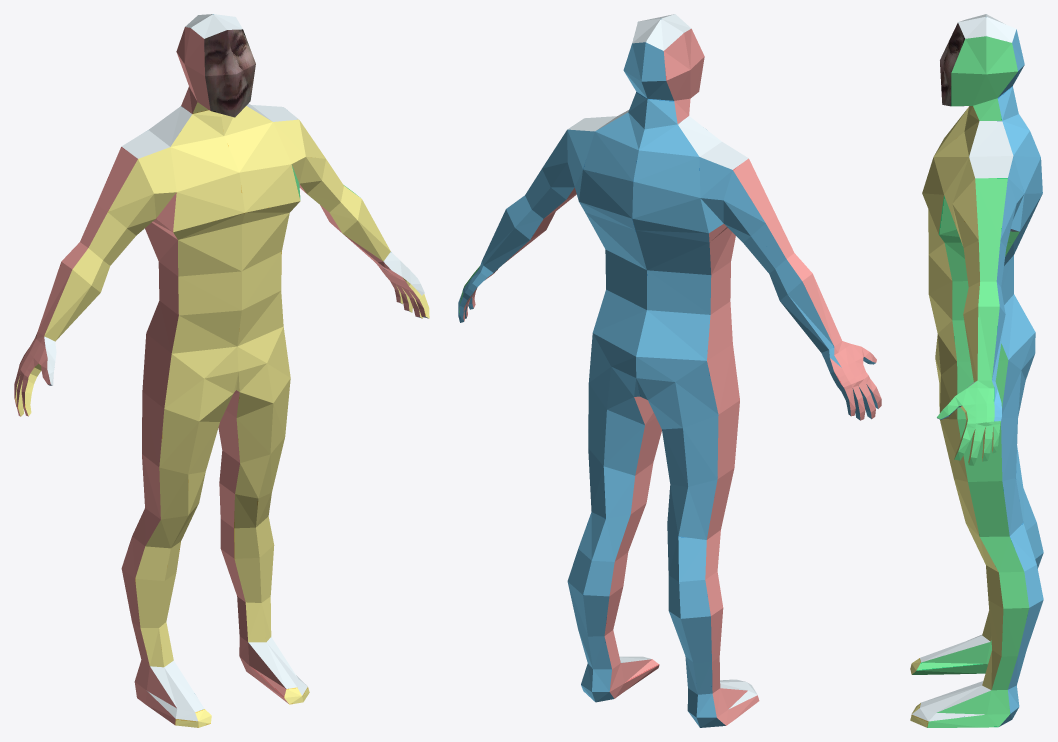
The model's file is dudlic.glb.
3 views of the same model, side by side, from view 1: azimuth 30°, elevation 25°; view 2: azimuth 150°, elevation 25°; view 3: azimuth 270°, elevation 25° (orthographic). The views are drawn at different scales.
Visible parts, largest first — view 1: Cube.001; view 2: Cube.001; view 3: Cube.001.
Part boxes in pixels (x1,y1,x2,y2): Cube.001: [14, 14, 429, 727]; Cube.001: [458, 14, 881, 727]; Cube.001: [910, 14, 1043, 727].
Size of the model in its own units: 3.52 by 5.57 by 0.9944.
1 material, 1 textured.
